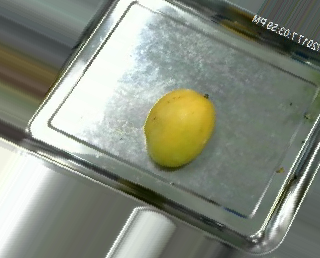Mango: (143, 86, 216, 169)
